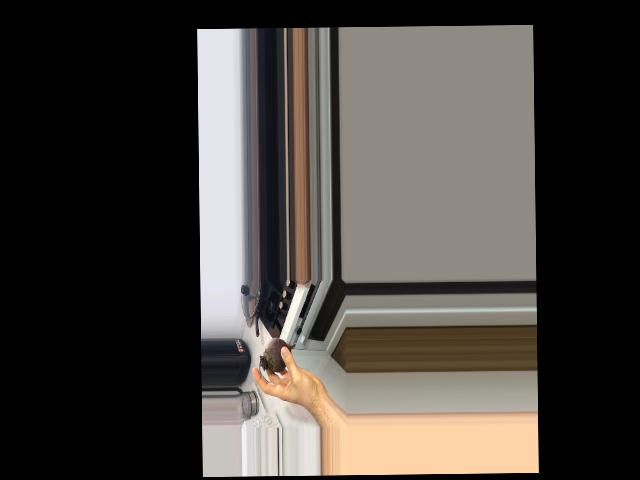beet: (259, 337, 297, 382)
